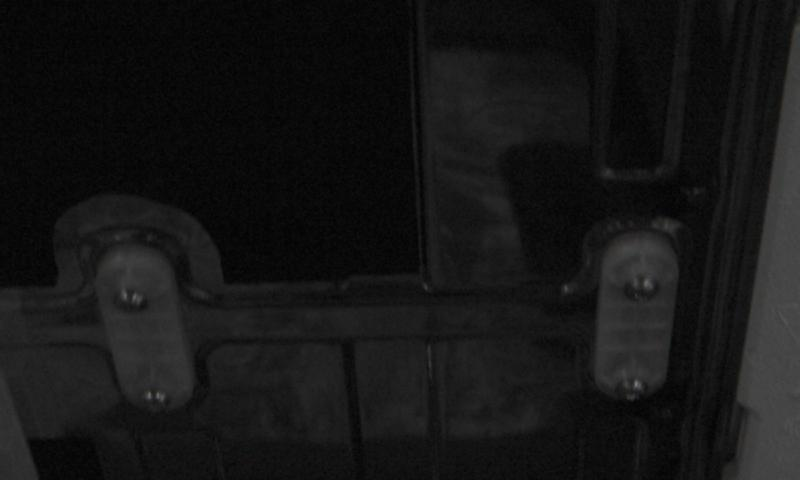vida-ok: (621, 264, 664, 309), (108, 275, 148, 320), (138, 378, 181, 418), (614, 366, 654, 404)
